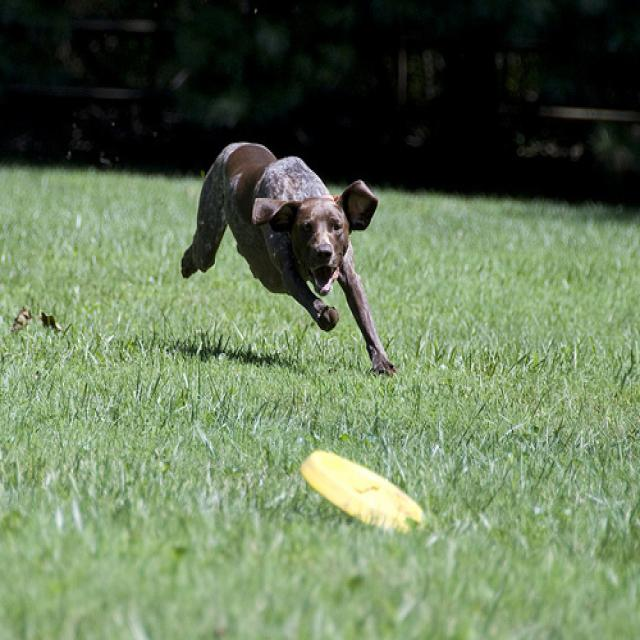dog-german_shorthaired: (169, 132, 399, 379)
